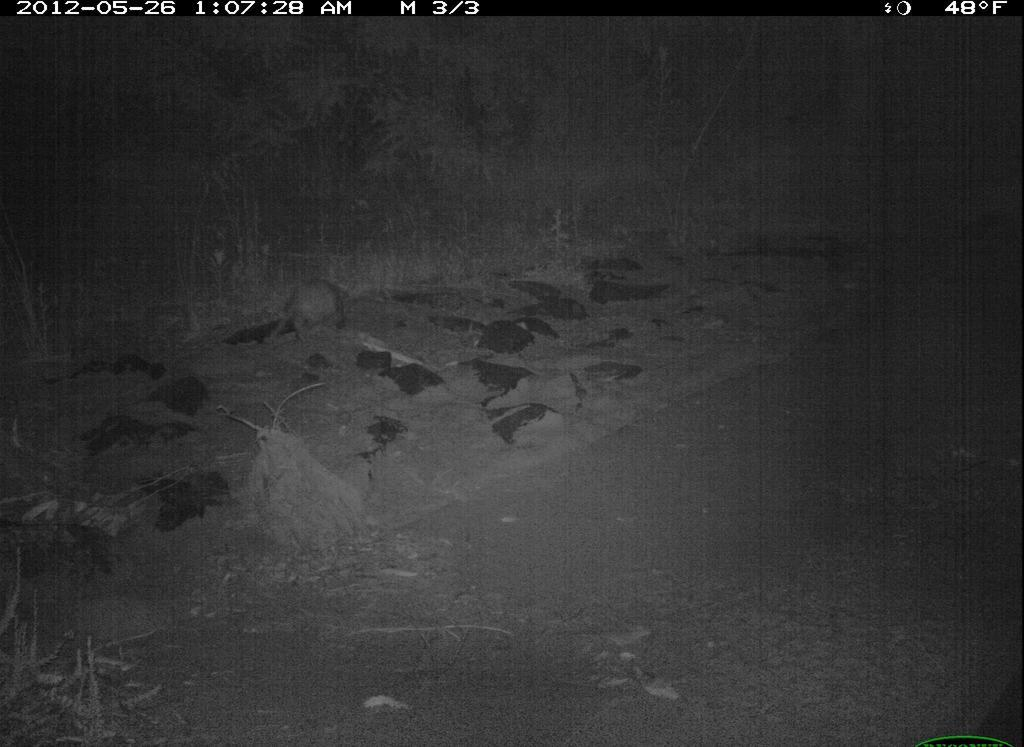opossum: (266, 275, 351, 349)
